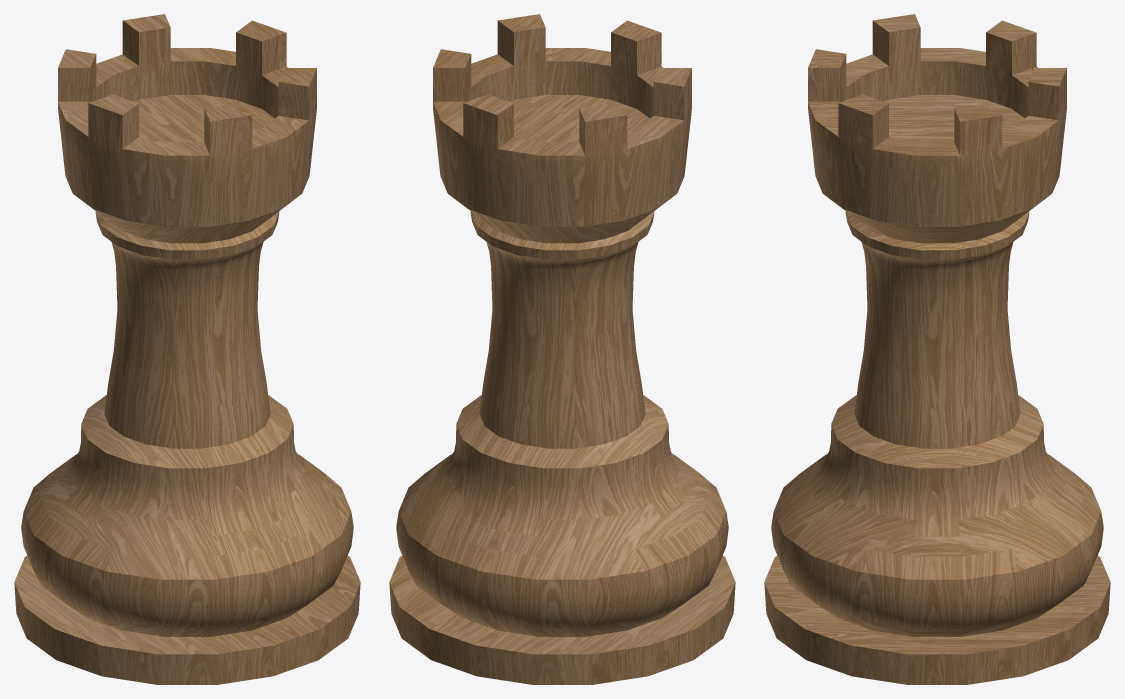
The model's file is white_rook.obj.
The picture shows the model from 3 angles, left to right: view 1: azimuth 30°, elevation 25°; view 2: azimuth 150°, elevation 25°; view 3: azimuth 270°, elevation 25°; orthographic projection.
Parts seen in each view (by area): view 1: Rook_W1_Material_011_0.001; view 2: Rook_W1_Material_011_0.001; view 3: Rook_W1_Material_011_0.001.
Part boxes in pixels (x1,y1,x2,y2): Rook_W1_Material_011_0.001: (14, 14, 360, 684); Rook_W1_Material_011_0.001: (389, 14, 735, 684); Rook_W1_Material_011_0.001: (764, 14, 1110, 684).
Bounding box in the file's own units: 2.63 × 4.72 × 2.67.
